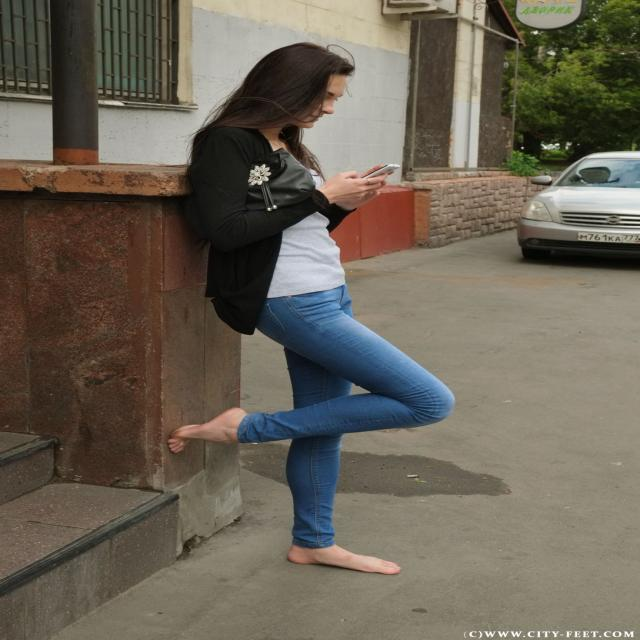Barefoots: (168, 408, 248, 453), (287, 544, 401, 574)
